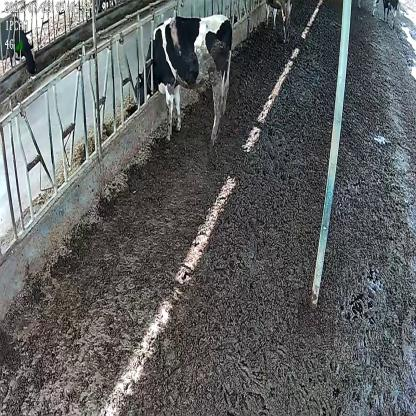cow: (135, 13, 234, 140)
